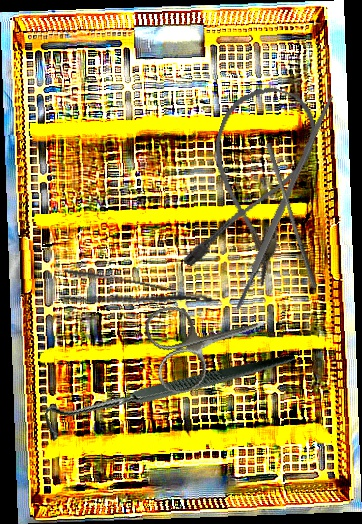Cannula: (176, 75, 327, 291)
Dressing Forceps: (58, 265, 214, 330)
Hook Surgical: (39, 300, 296, 493)
Iris Scissors: (140, 281, 278, 399)
Pusher: (260, 142, 324, 289)
Scalpel Handle: (231, 93, 336, 313)
